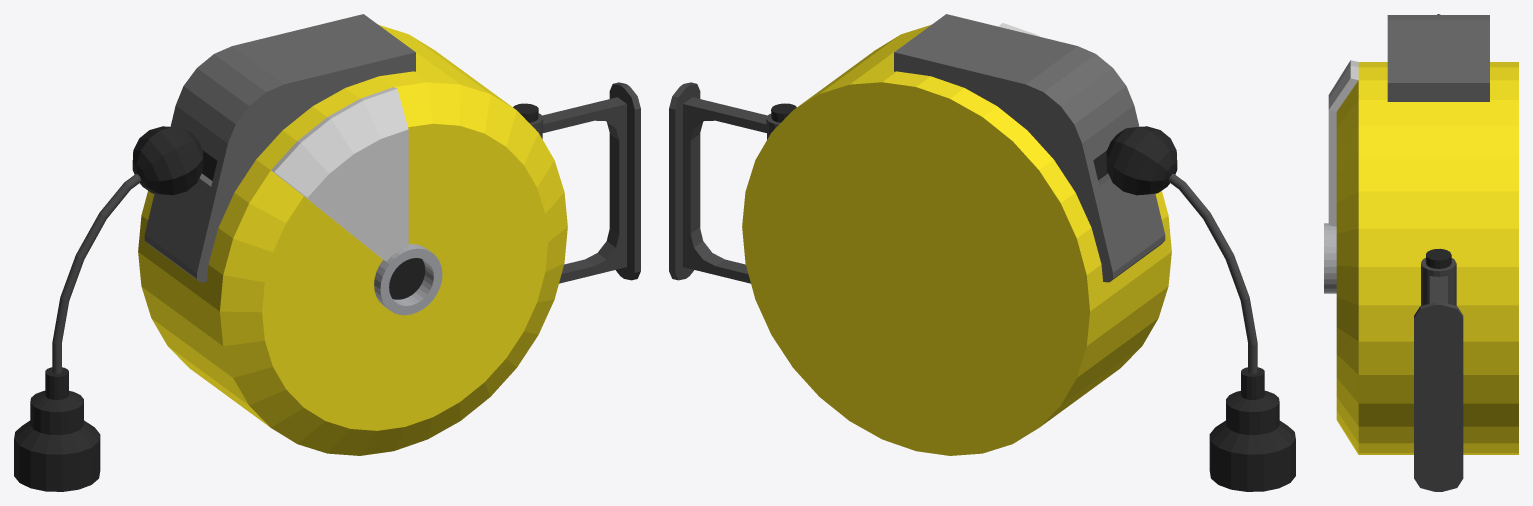
Rendered from Electro.fbx.
The picture shows the model from 3 angles, left to right: view 1: azimuth 30°, elevation 25°; view 2: azimuth 150°, elevation 25°; view 3: azimuth 270°, elevation 25°; orthographic projection. The views are drawn at different scales.
Visible parts, largest first — view 1: Electro; view 2: Electro; view 3: Electro.
Part boxes in pixels (x1,y1,x2,y2): Electro: [14, 14, 640, 491]; Electro: [669, 14, 1295, 491]; Electro: [1324, 14, 1518, 491].
Size of the model in its own units: 86.5 by 51.49 by 24.46.
